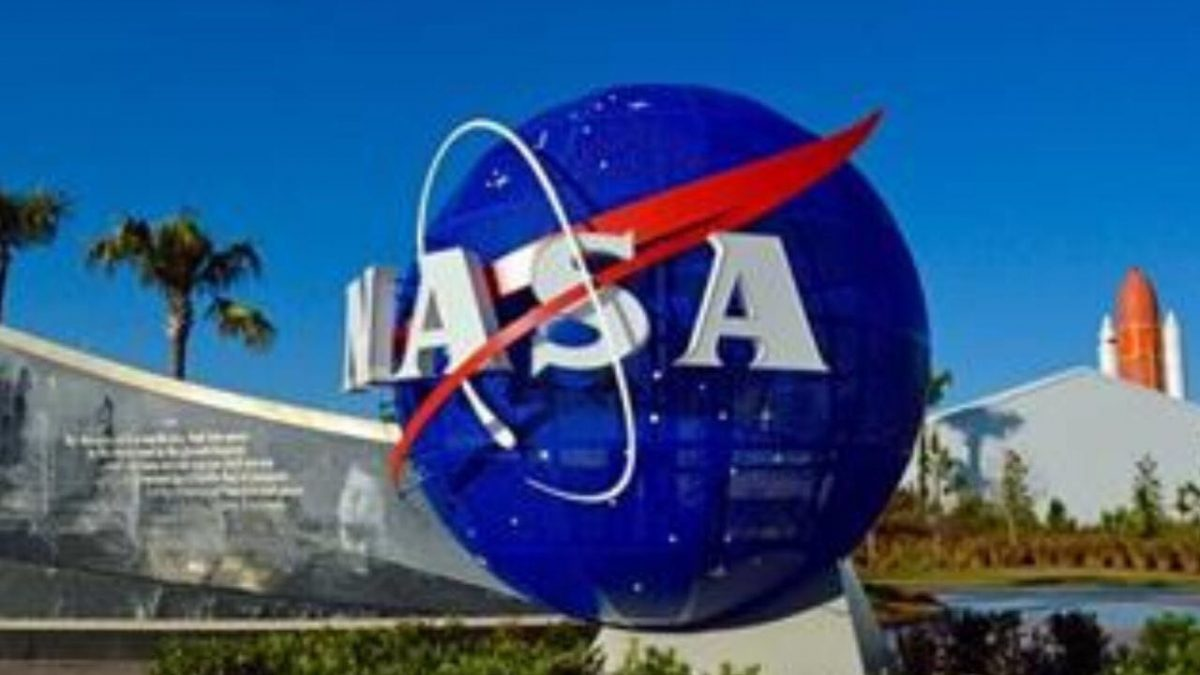NASA: (339, 81, 924, 630)
